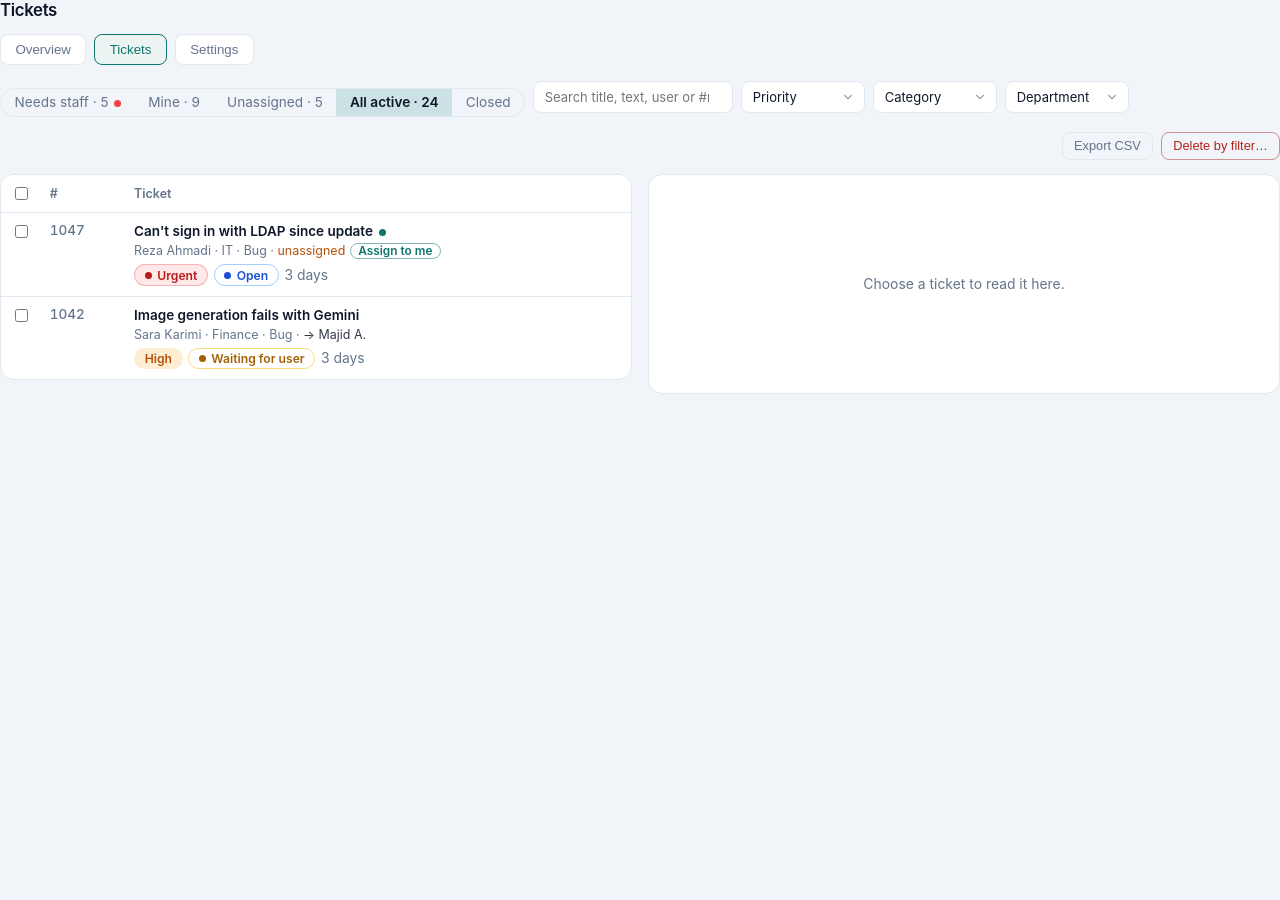
Test: the queue › deletes the selection only for a Super Admin, through the delete dialog
Click the checkbox named "Select #1047" at (21, 232), box 15,225 -> 28,238
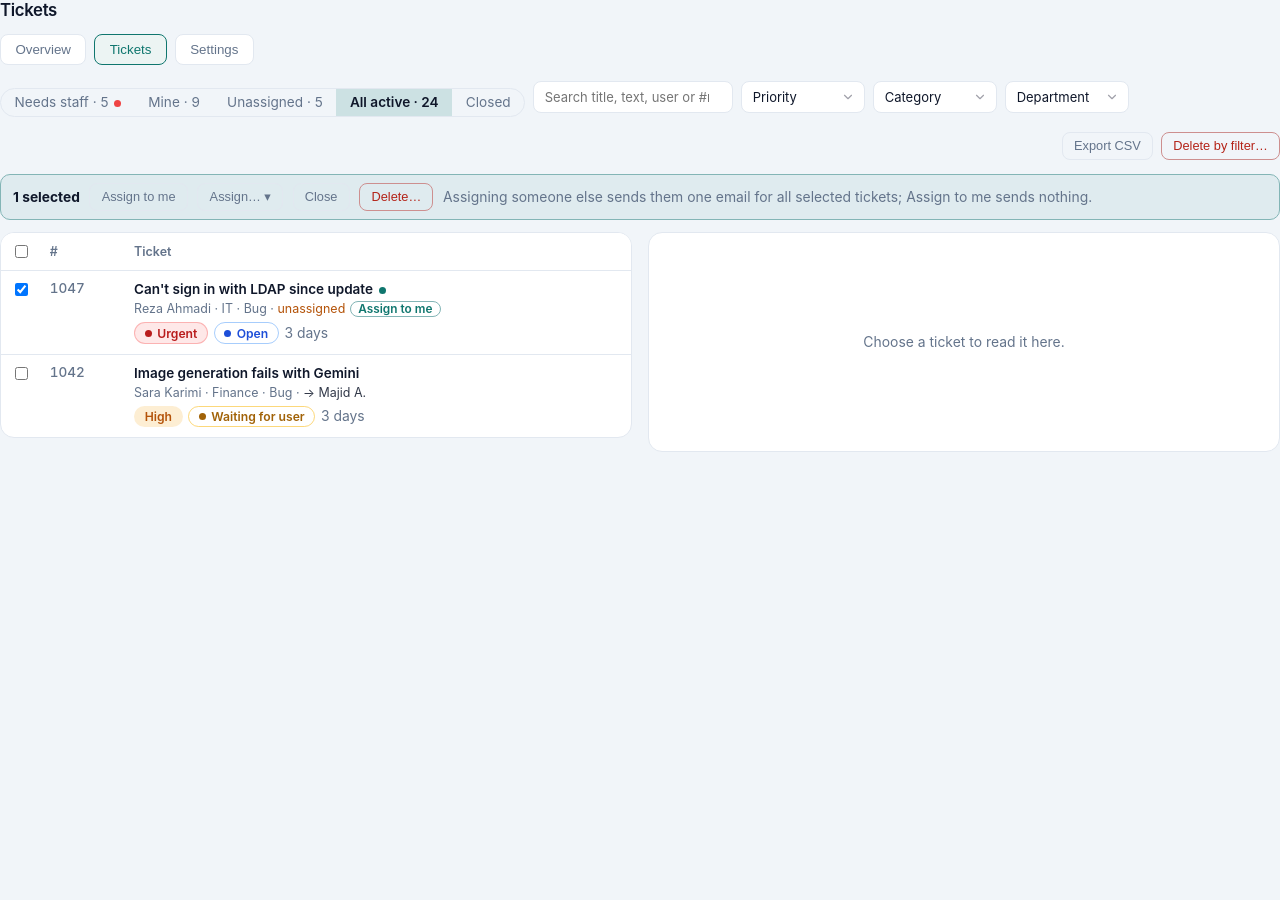
Click the button "Delete…" at (396, 197), box 359,183 -> 434,211
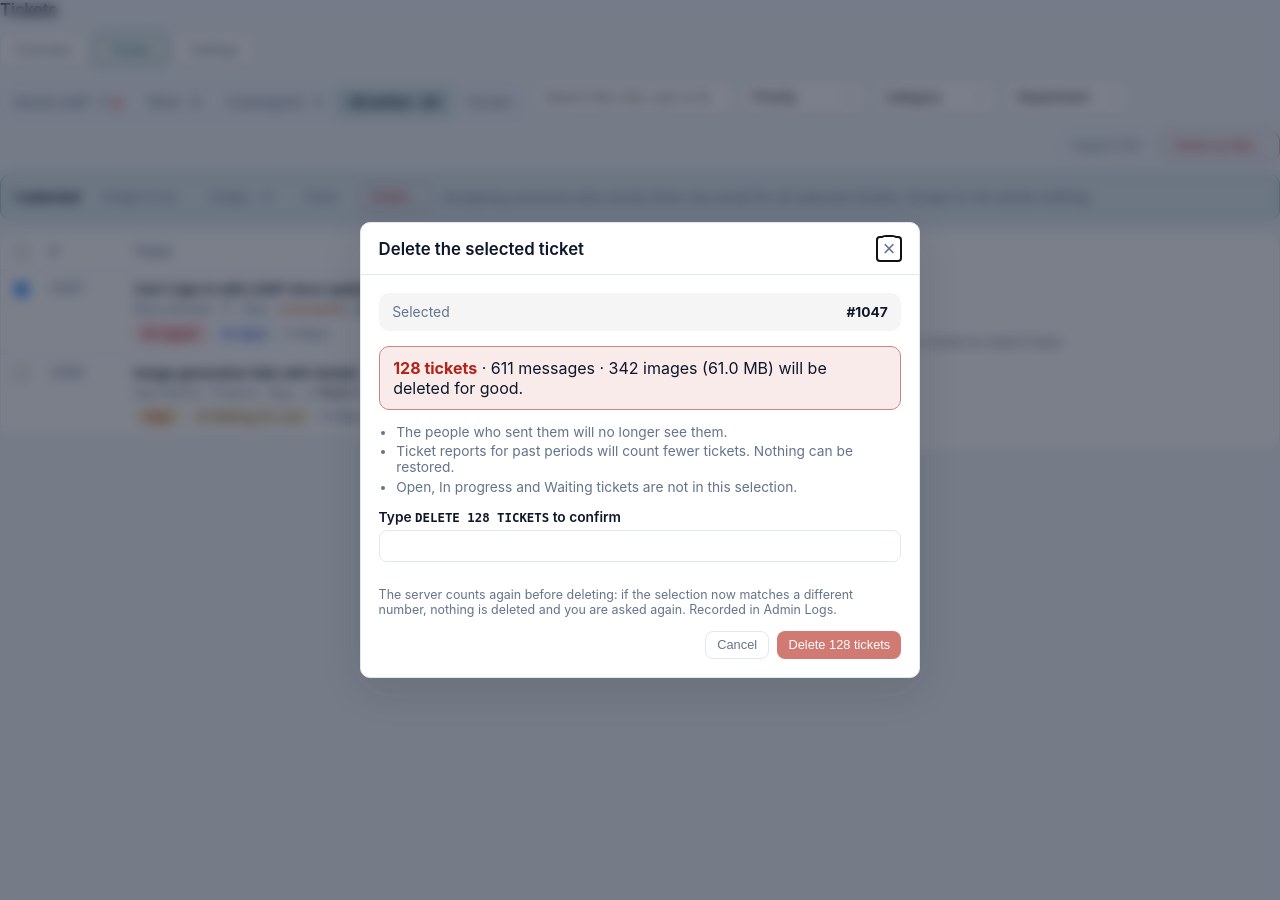
Expected: the dialog with class "tickets-modal" shows "Delete the selected ticket", 379,239 -> 584,259
Expected: the element with class "tickets-filter-summary" reads "Selected #1047", 379,293 -> 901,331
